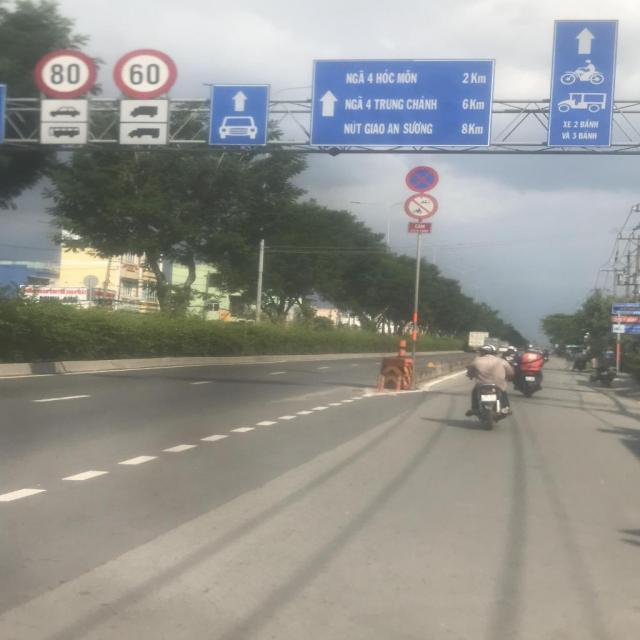cam_dung_xe_va_do_xe: (406, 166, 438, 193)
cam_xe_2_banh_va_xe_3_banh_co_dong_co: (404, 192, 438, 220)
duong_cho_xe_o_to: (209, 85, 269, 145)
khac: (310, 61, 494, 145), (548, 22, 615, 146), (39, 100, 89, 122), (119, 122, 168, 144), (40, 122, 88, 144), (120, 101, 168, 123)
toc_do_toi_da_60: (114, 49, 177, 99)
toc_do_toi_da_80: (34, 49, 96, 99)
